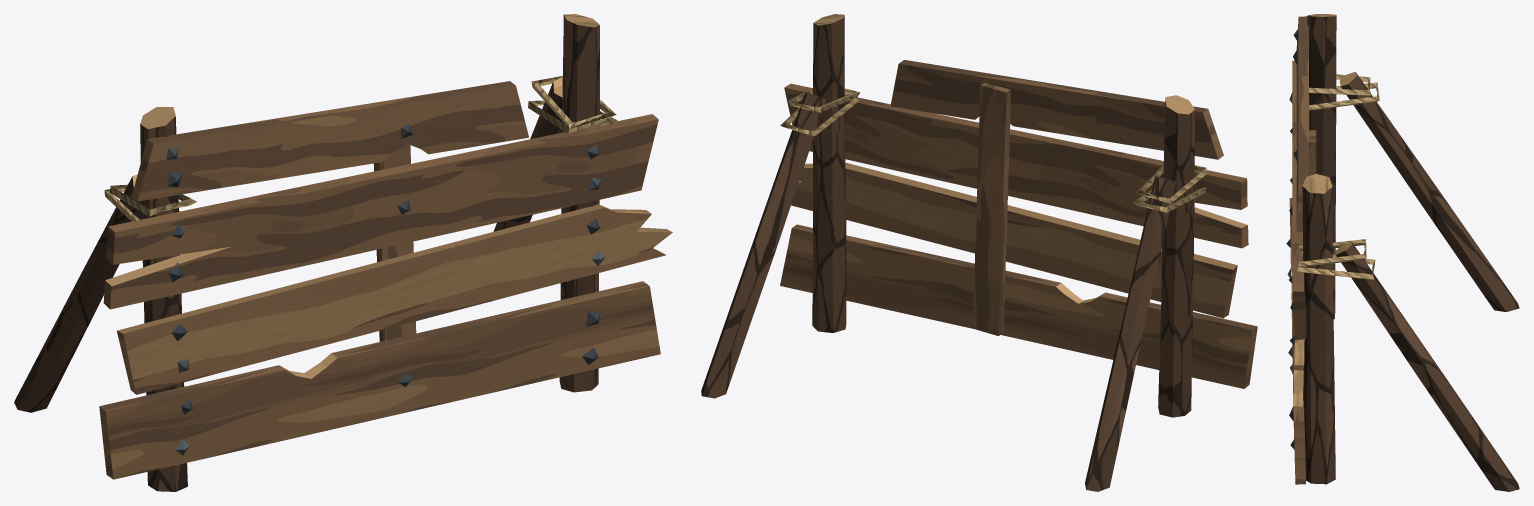
The model's file is SM_WoodenBarricade.fbx.
3 views of the same model, side by side, from view 1: azimuth 30°, elevation 25°; view 2: azimuth 150°, elevation 25°; view 3: azimuth 270°, elevation 25° (orthographic). The views are drawn at different scales.
Visible parts, largest first — view 1: SM_WoodenBarricade; view 2: SM_WoodenBarricade; view 3: SM_WoodenBarricade.
Boxes of the visible parts, box(x1,y1,x2,y2) form: SM_WoodenBarricade: box(14, 14, 672, 491); SM_WoodenBarricade: box(701, 14, 1257, 491); SM_WoodenBarricade: box(1286, 14, 1519, 491).
Size of the model in its own units: 2 by 1.25 by 0.8763.
